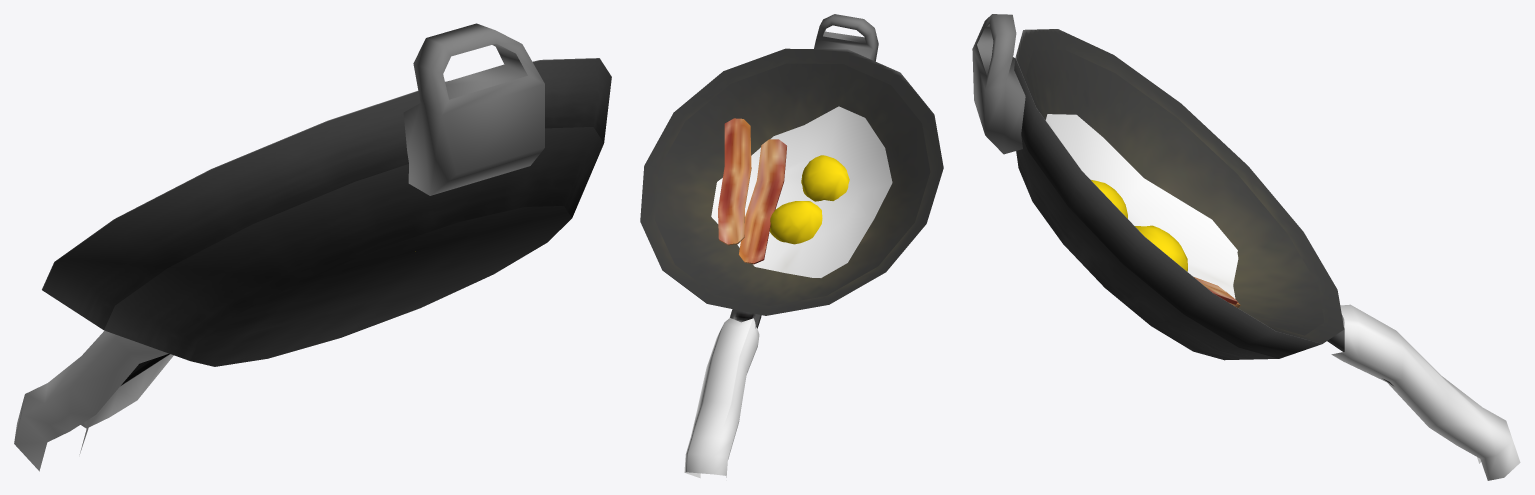
The model's file is C_WokPan_EggsBacon.fbx.
The picture shows the model from 3 angles, left to right: view 1: azimuth 30°, elevation 25°; view 2: azimuth 150°, elevation 25°; view 3: azimuth 270°, elevation 25°; orthographic projection. The views are drawn at different scales.
Parts seen in each view (by area): view 1: FriedEgg_Bacon; view 2: FriedEgg_Bacon; view 3: FriedEgg_Bacon.
Boxes of the visible parts, x1=… form: FriedEgg_Bacon: x1=14, y1=23, x2=611, y2=471; FriedEgg_Bacon: x1=640, y1=14, x2=943, y2=478; FriedEgg_Bacon: x1=972, y1=14, x2=1520, y2=480.
Size of the model in its own units: 58.63 by 68.24 by 71.58.
